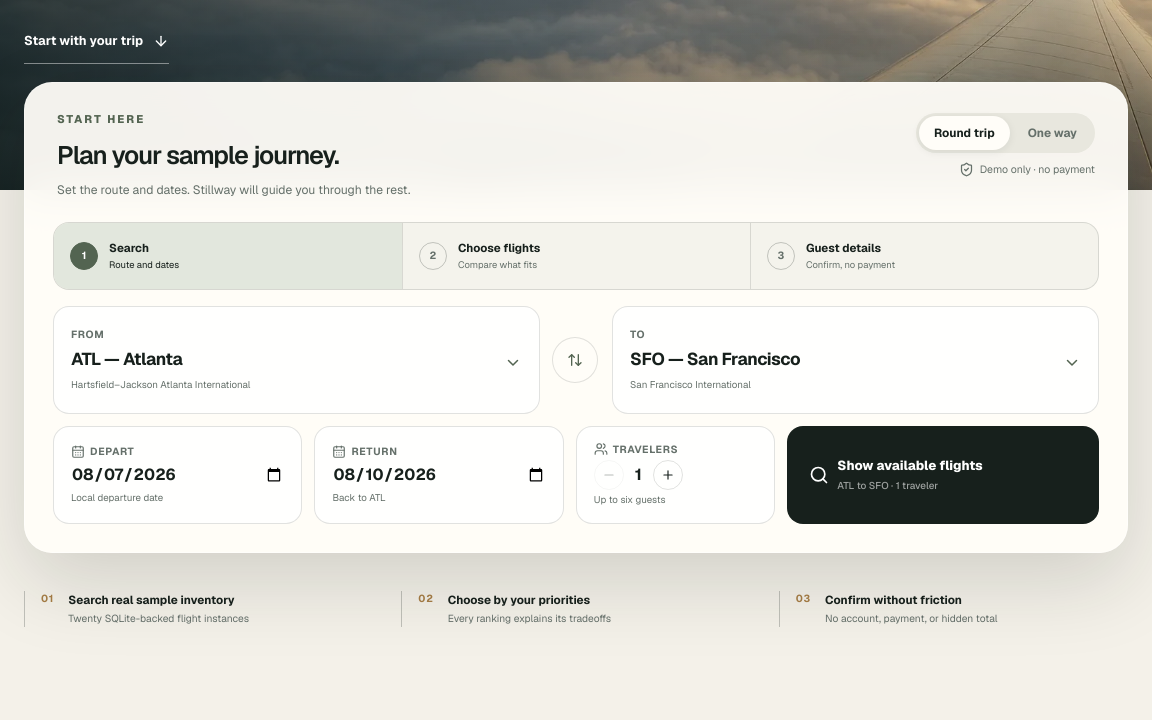
booking interface components › shows same-page search validation before making a request
(page scrolled)
Select "SFO — San Francisco" in the dropdown labelled "From Hartsfield–Jackson Atlanta International" at [282, 360], box [71, 342, 493, 378]
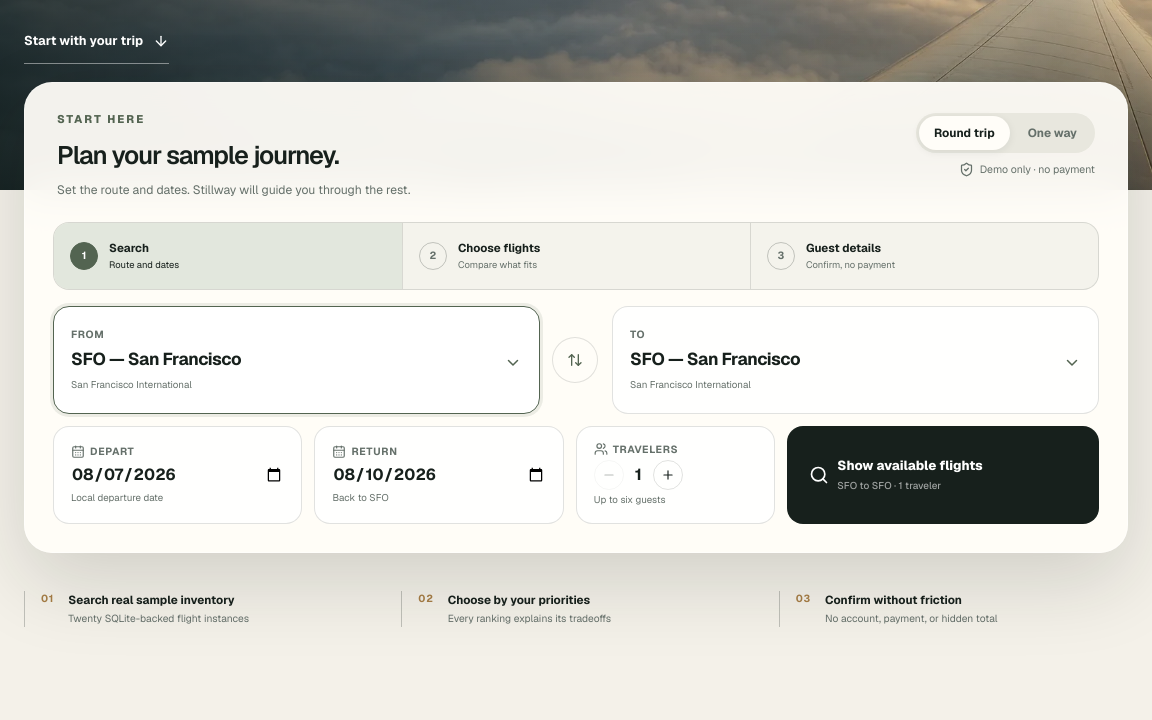
Click the button with aria-label "Search flights" at [943, 475], box [787, 426, 1099, 524]
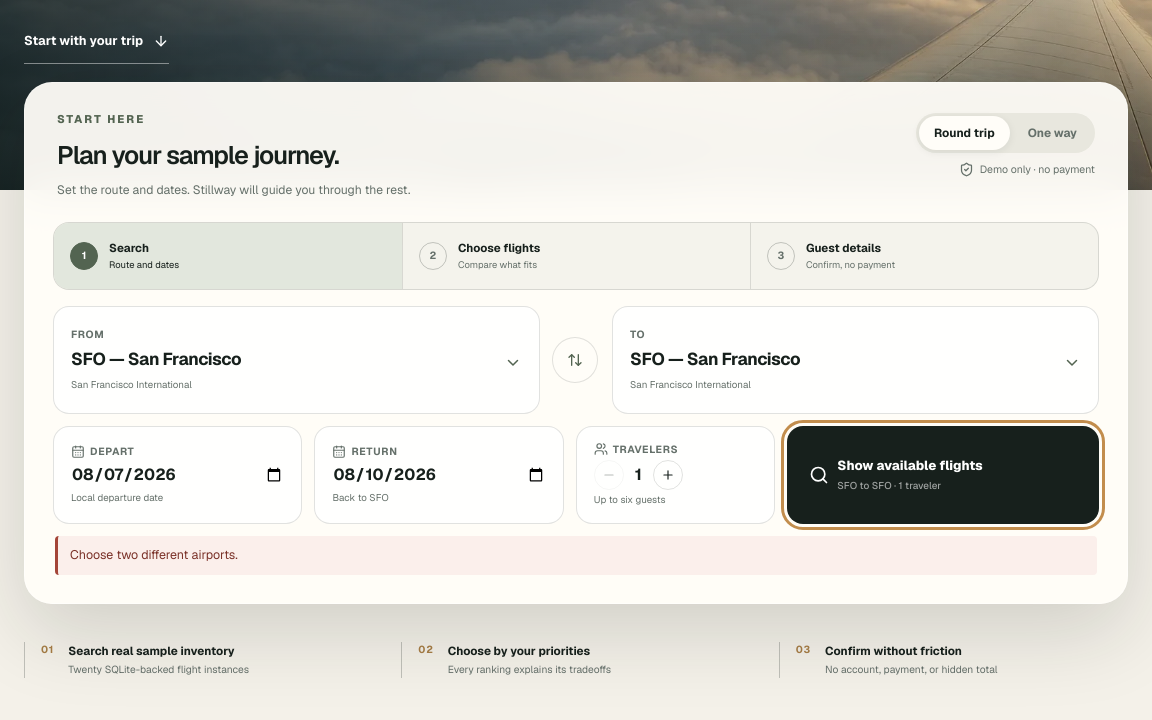
Check: the message reads "Choose two different airports.", box [70, 546, 238, 563]
